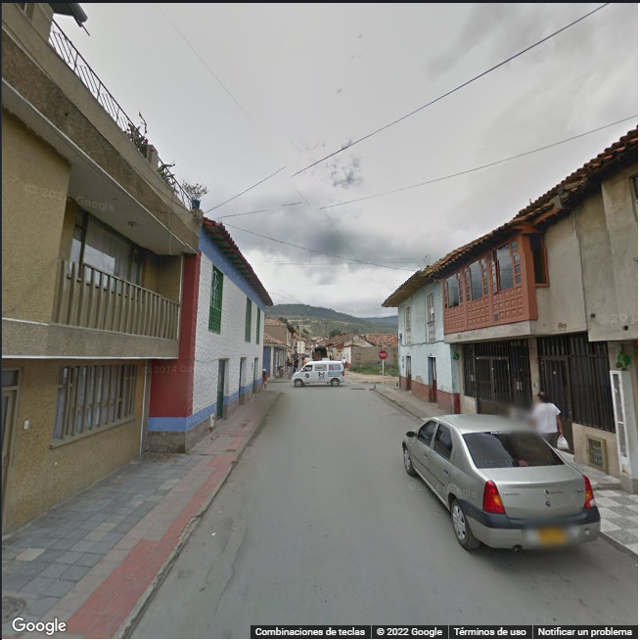D00: (215, 520, 250, 619), (200, 515, 234, 582)
